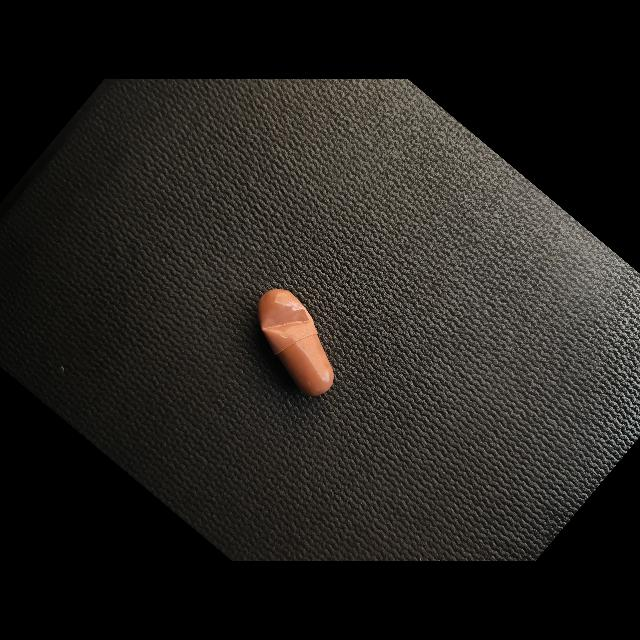Defective Capsule: (261, 300, 311, 341)
